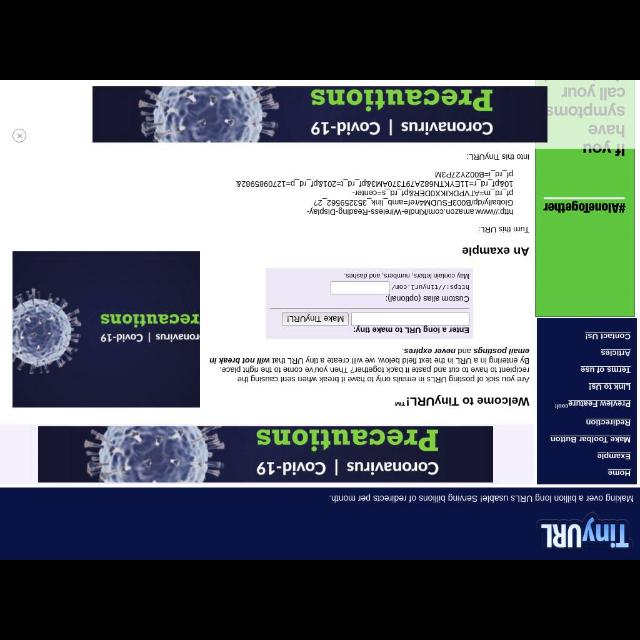icon: (12, 128, 28, 142)
iframe: (12, 252, 200, 408), (92, 86, 548, 142), (39, 426, 494, 482), (534, 81, 634, 317)
image: (536, 512, 634, 550)
input: (352, 314, 468, 324), (332, 282, 388, 294)
text: (236, 170, 514, 216), (210, 346, 530, 384), (328, 494, 634, 504), (394, 394, 530, 406), (352, 324, 470, 334), (344, 272, 468, 280), (462, 244, 528, 256), (554, 399, 630, 408), (386, 294, 470, 302), (391, 283, 469, 291), (466, 153, 530, 161), (549, 436, 631, 442), (286, 314, 344, 322), (580, 366, 632, 374), (585, 332, 631, 340), (478, 225, 530, 232), (586, 418, 630, 426), (589, 383, 631, 391), (596, 452, 632, 461), (600, 349, 632, 357), (607, 469, 631, 477)
textbutton: (282, 313, 348, 325)
